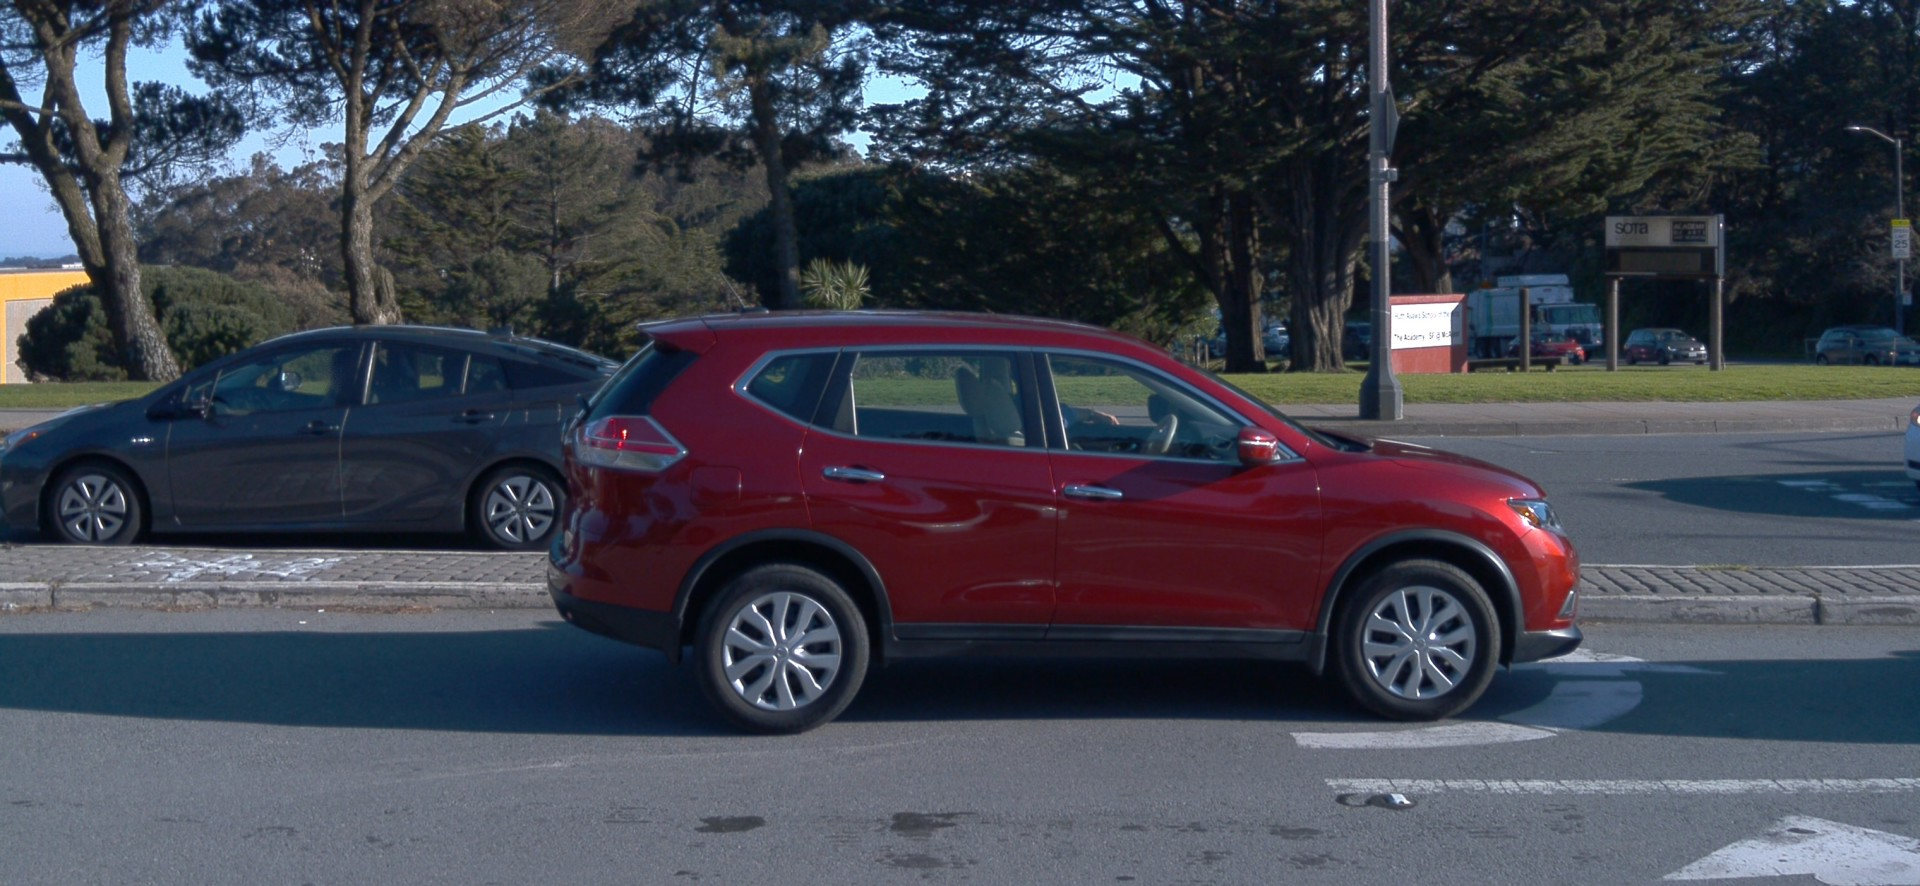TYPE_VEHICLE: (542, 306, 1589, 736), (2, 317, 628, 552), (1462, 272, 1601, 364), (1813, 324, 1920, 366), (1619, 326, 1706, 366), (1505, 330, 1588, 368), (1900, 405, 1920, 492), (1338, 320, 1373, 361), (1266, 326, 1292, 342), (1262, 335, 1287, 350)
